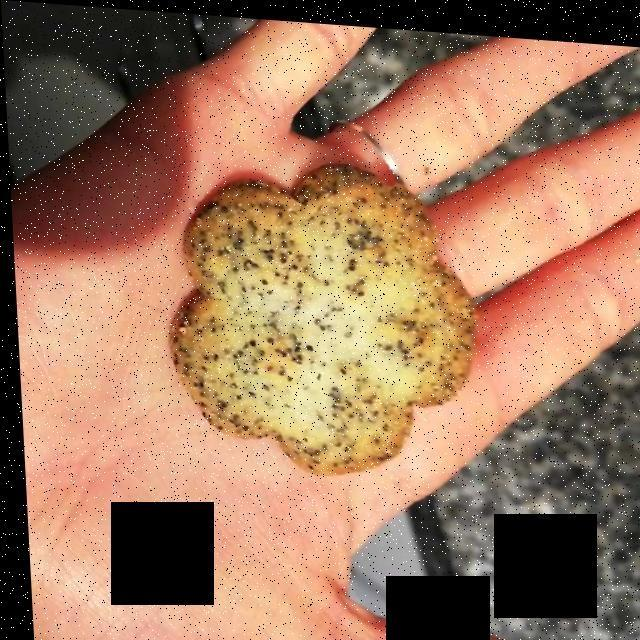biscuits: (173, 166, 468, 458)
